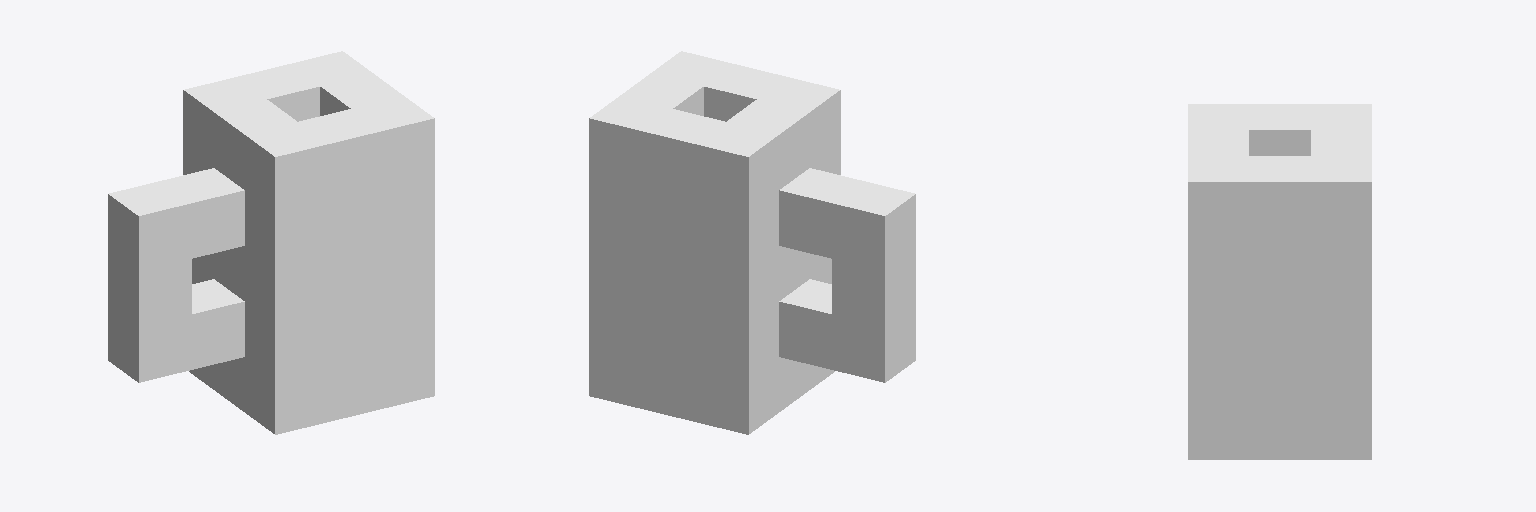
File: coffee1.obj
3 renders of one model, left to right at view 1: azimuth 30°, elevation 25°; view 2: azimuth 150°, elevation 25°; view 3: azimuth 270°, elevation 25°, orthographic.
Size of the model in its own units: 0.25 by 0.25 by 0.15.